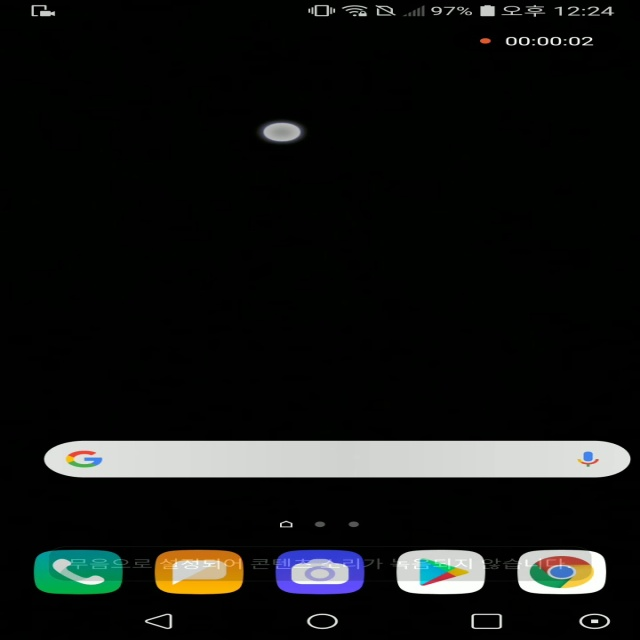Cursor: (259, 121, 304, 143)
